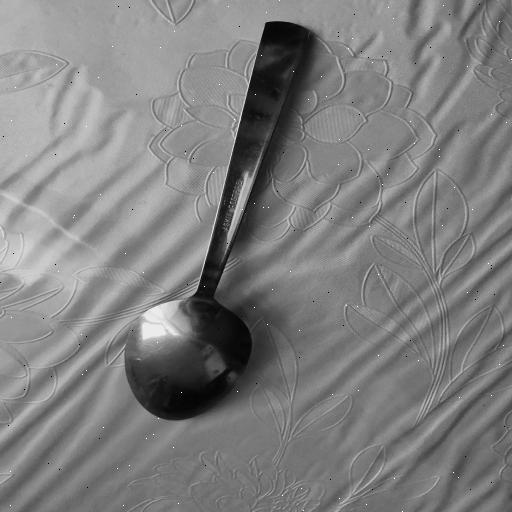spoon: (120, 22, 313, 422)
